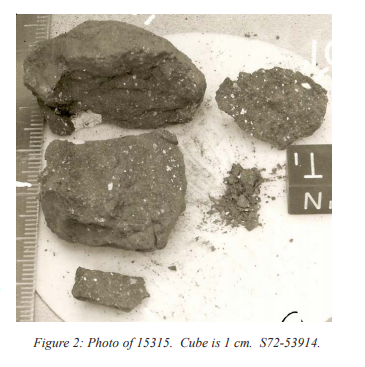Breccia: (30, 125, 172, 241), (18, 27, 188, 96), (211, 68, 318, 144), (61, 265, 159, 301)
